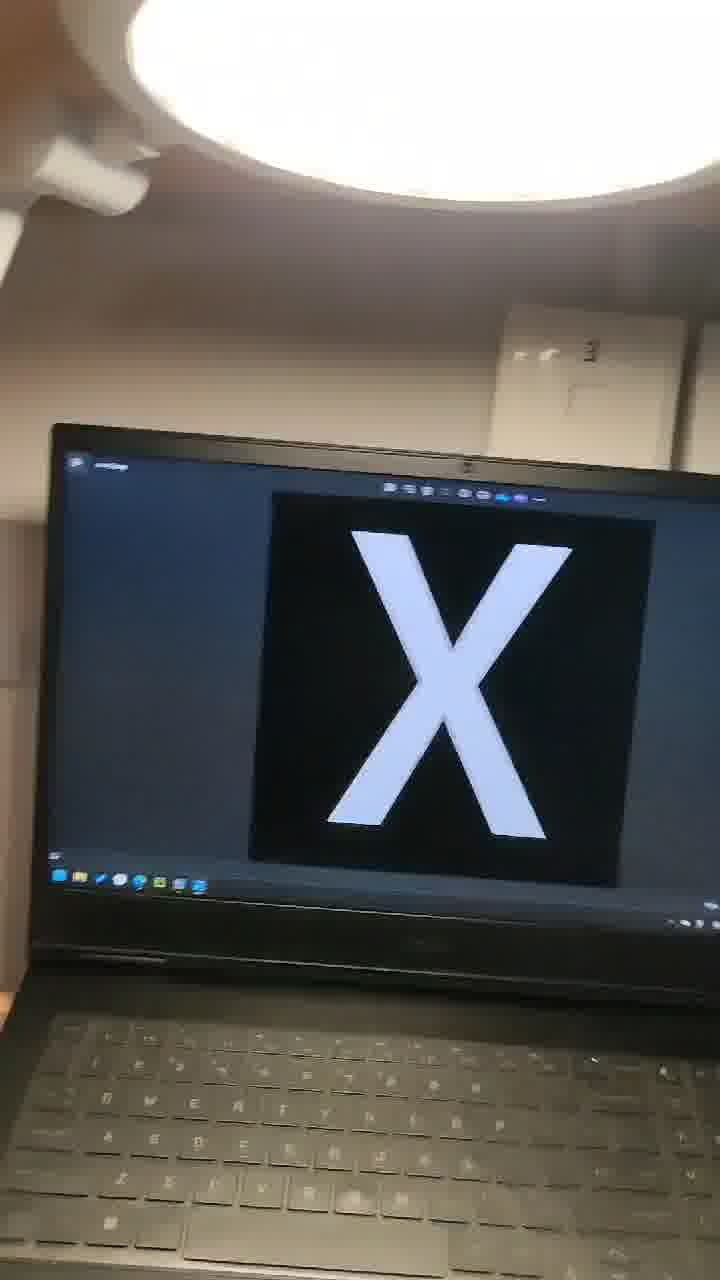X: (276, 468, 699, 923)
